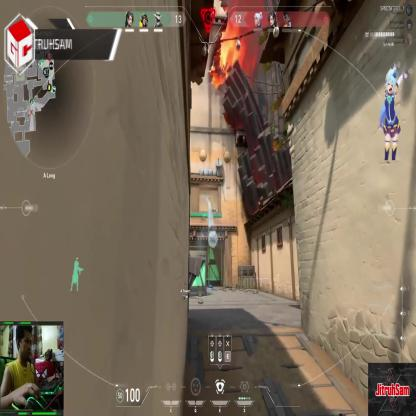enemy: (210, 206, 218, 231)
enemy_head: (212, 207, 216, 212)
